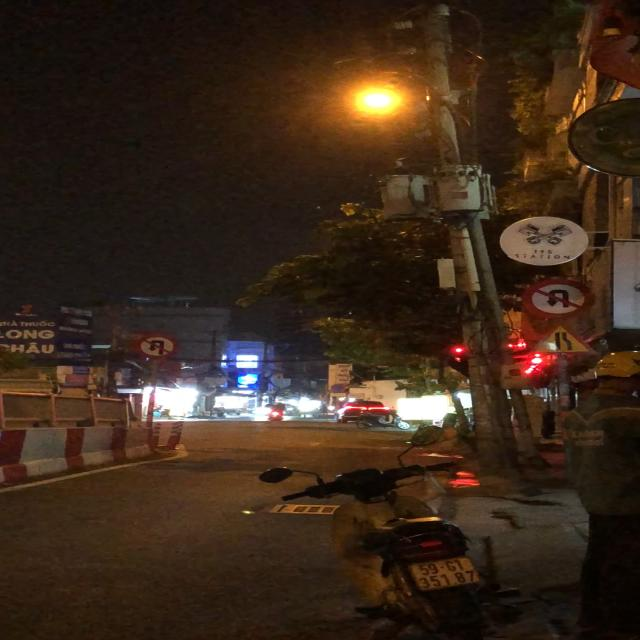Bien bao cam quay dau xe: (513, 277, 593, 317), (130, 331, 184, 359)
Bien bao duong bi thu hep: (521, 319, 602, 357)
